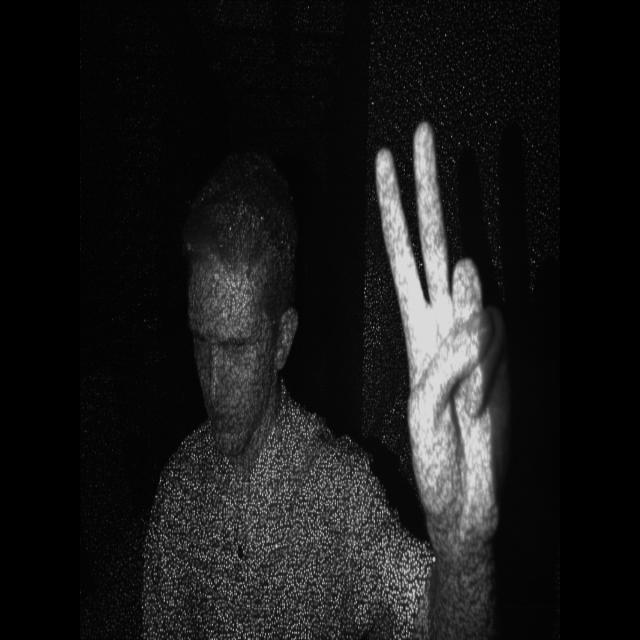V: (355, 91, 523, 550)
